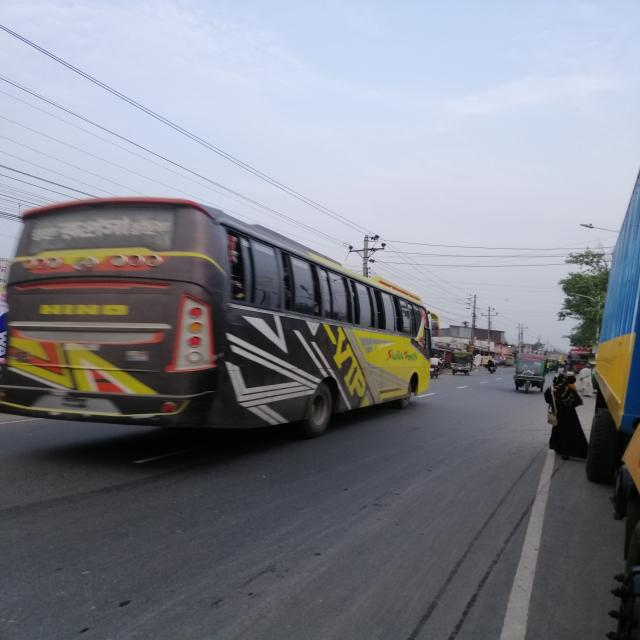Bus: (7, 199, 436, 444)
